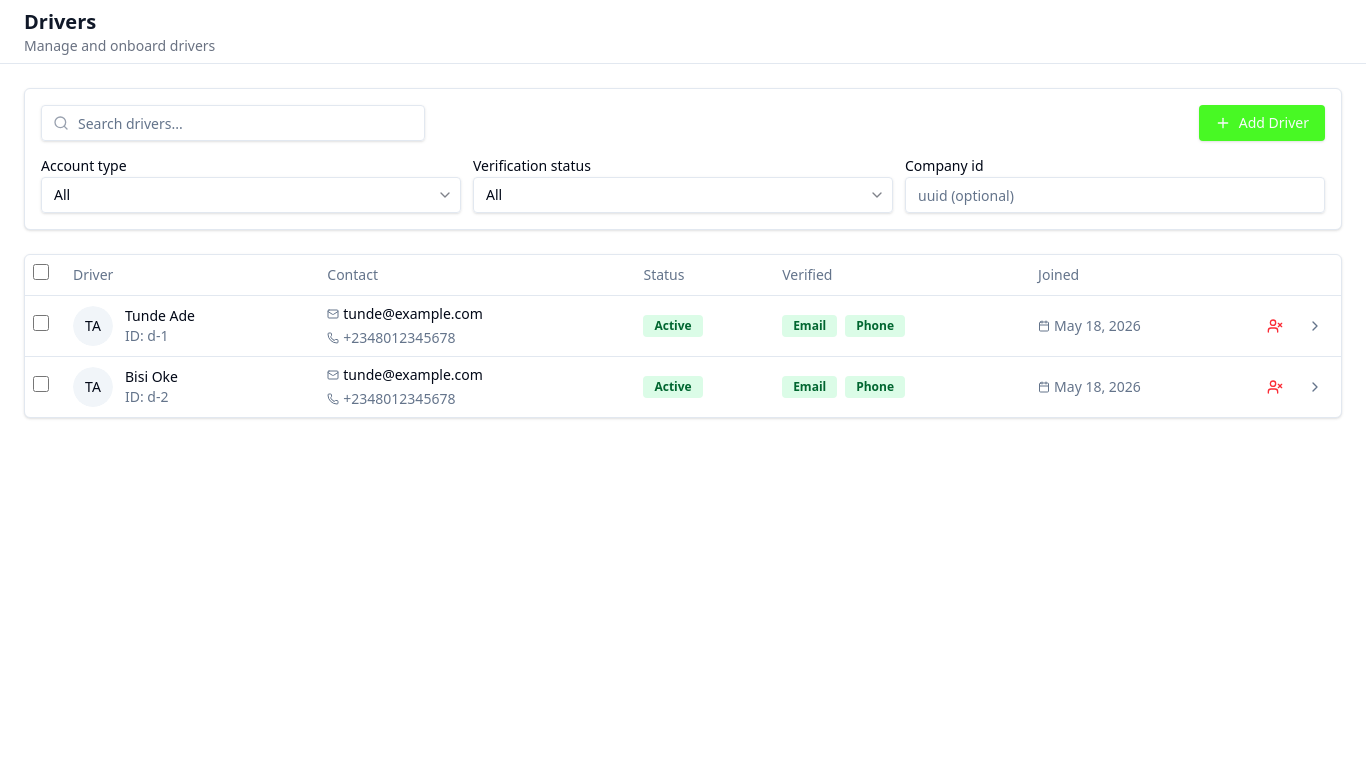
DriversPage bulk delete › selects rows and purges them through bulkDelete
Expected: the row with test id "drivers-row-d-1" is shown, top-left (25, 295), bottom-right (1341, 356)
Click the checkbox with test id "drivers-select-all". click: (41, 272)
box: top-left (33, 264), bottom-right (49, 280)
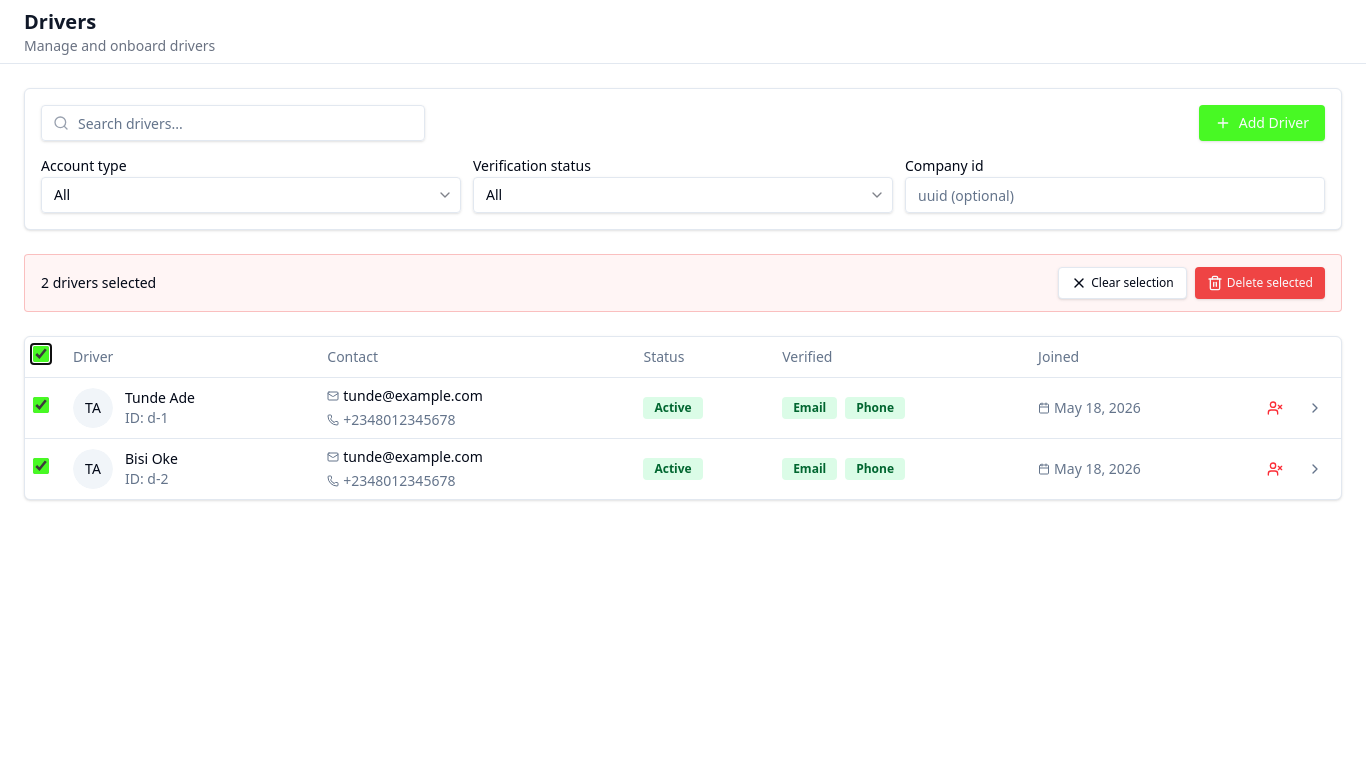
Now the element with test id "bulk-delete-bar" shows "2 drivers selected", box top-left (24, 254), bottom-right (1342, 312)
Click the button with test id "bulk-delete-button". click: (1260, 283)
box: top-left (1195, 267), bottom-right (1325, 299)
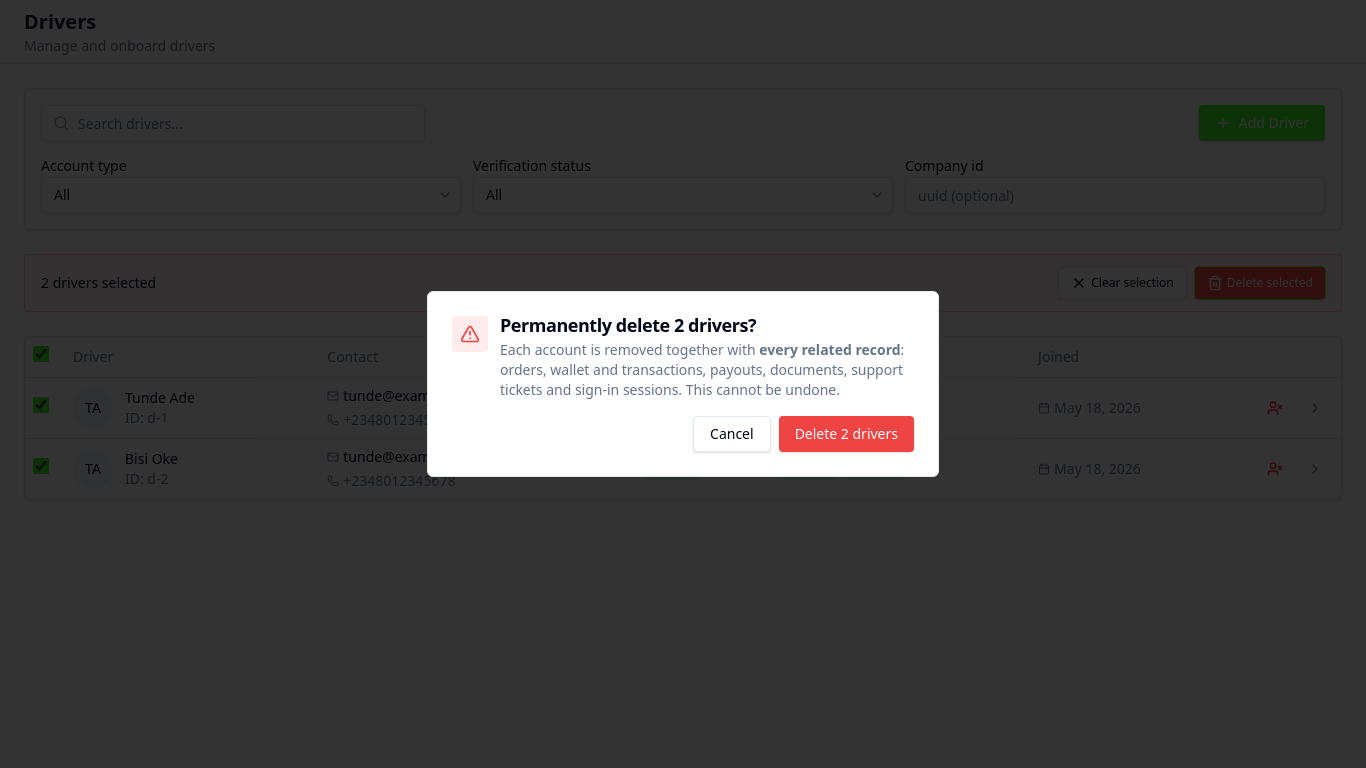
Click the button "Delete 2 drivers". click: (846, 434)
box: top-left (779, 416), bottom-right (914, 452)
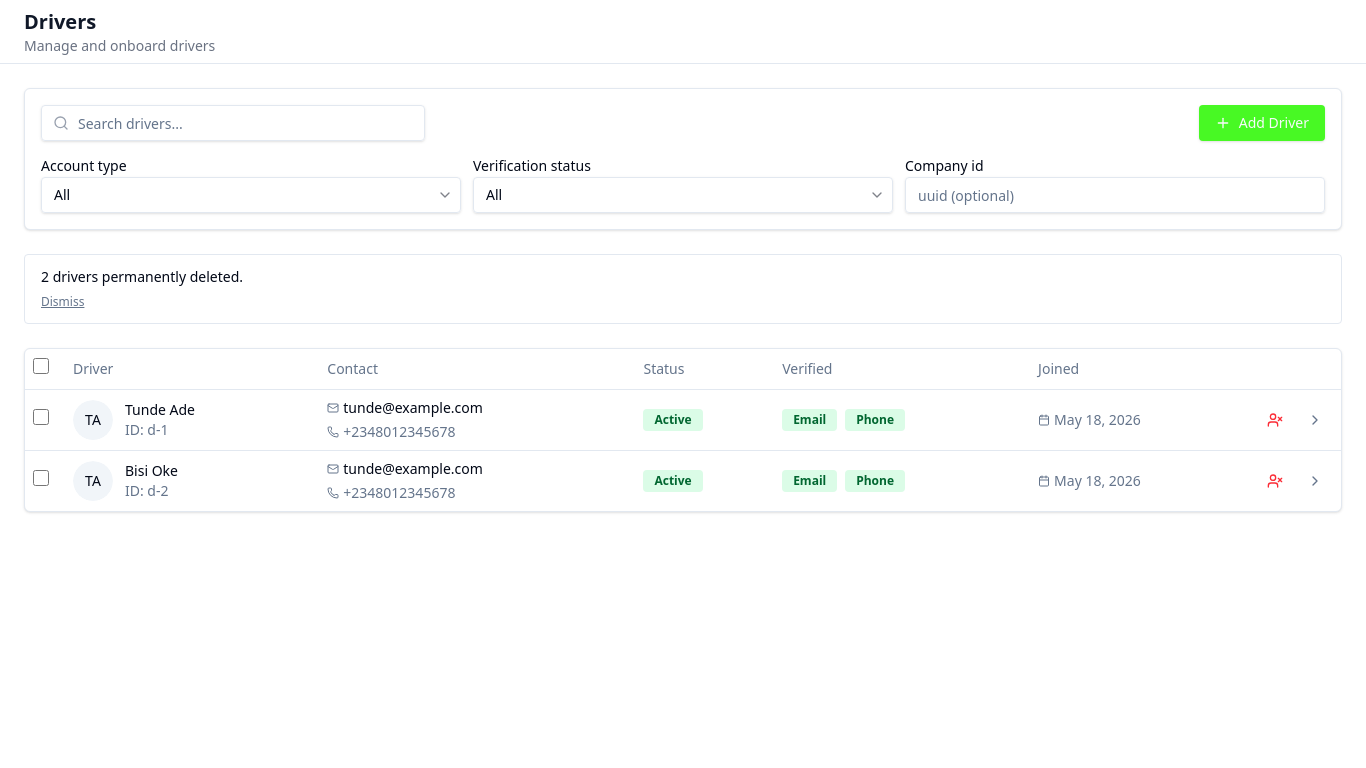
Now the message with test id "bulk-delete-result" shows "2 drivers permanently deleted", box top-left (24, 254), bottom-right (1342, 324)
Now the element with test id "bulk-delete-bar" is gone
